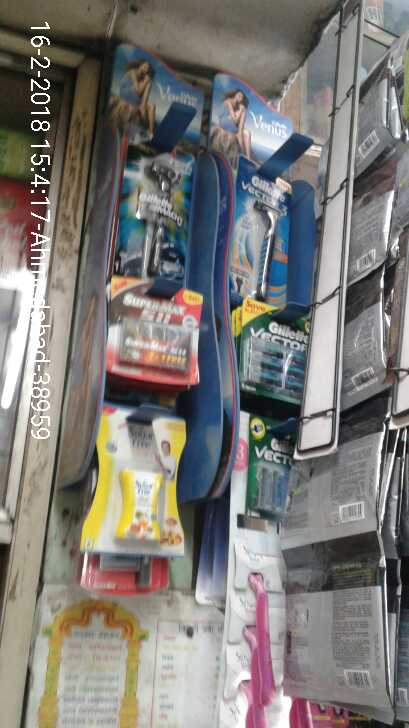gillette: (223, 166, 293, 301), (123, 130, 185, 280), (238, 305, 317, 401)
